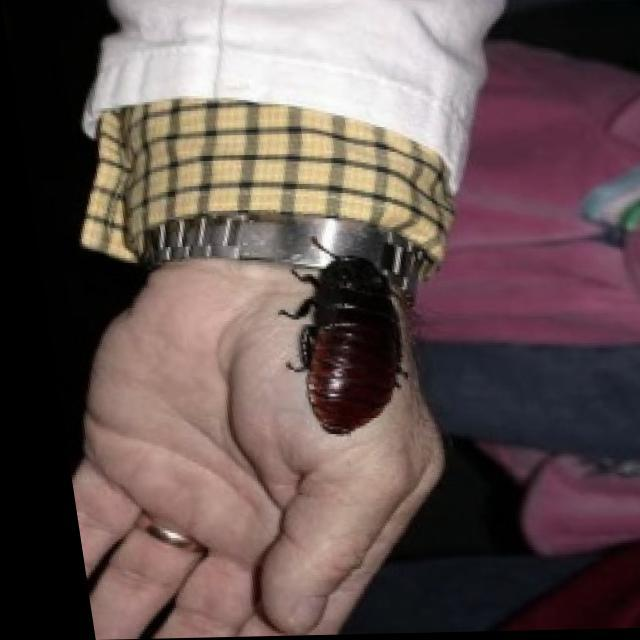cockroach: (274, 233, 414, 439)
